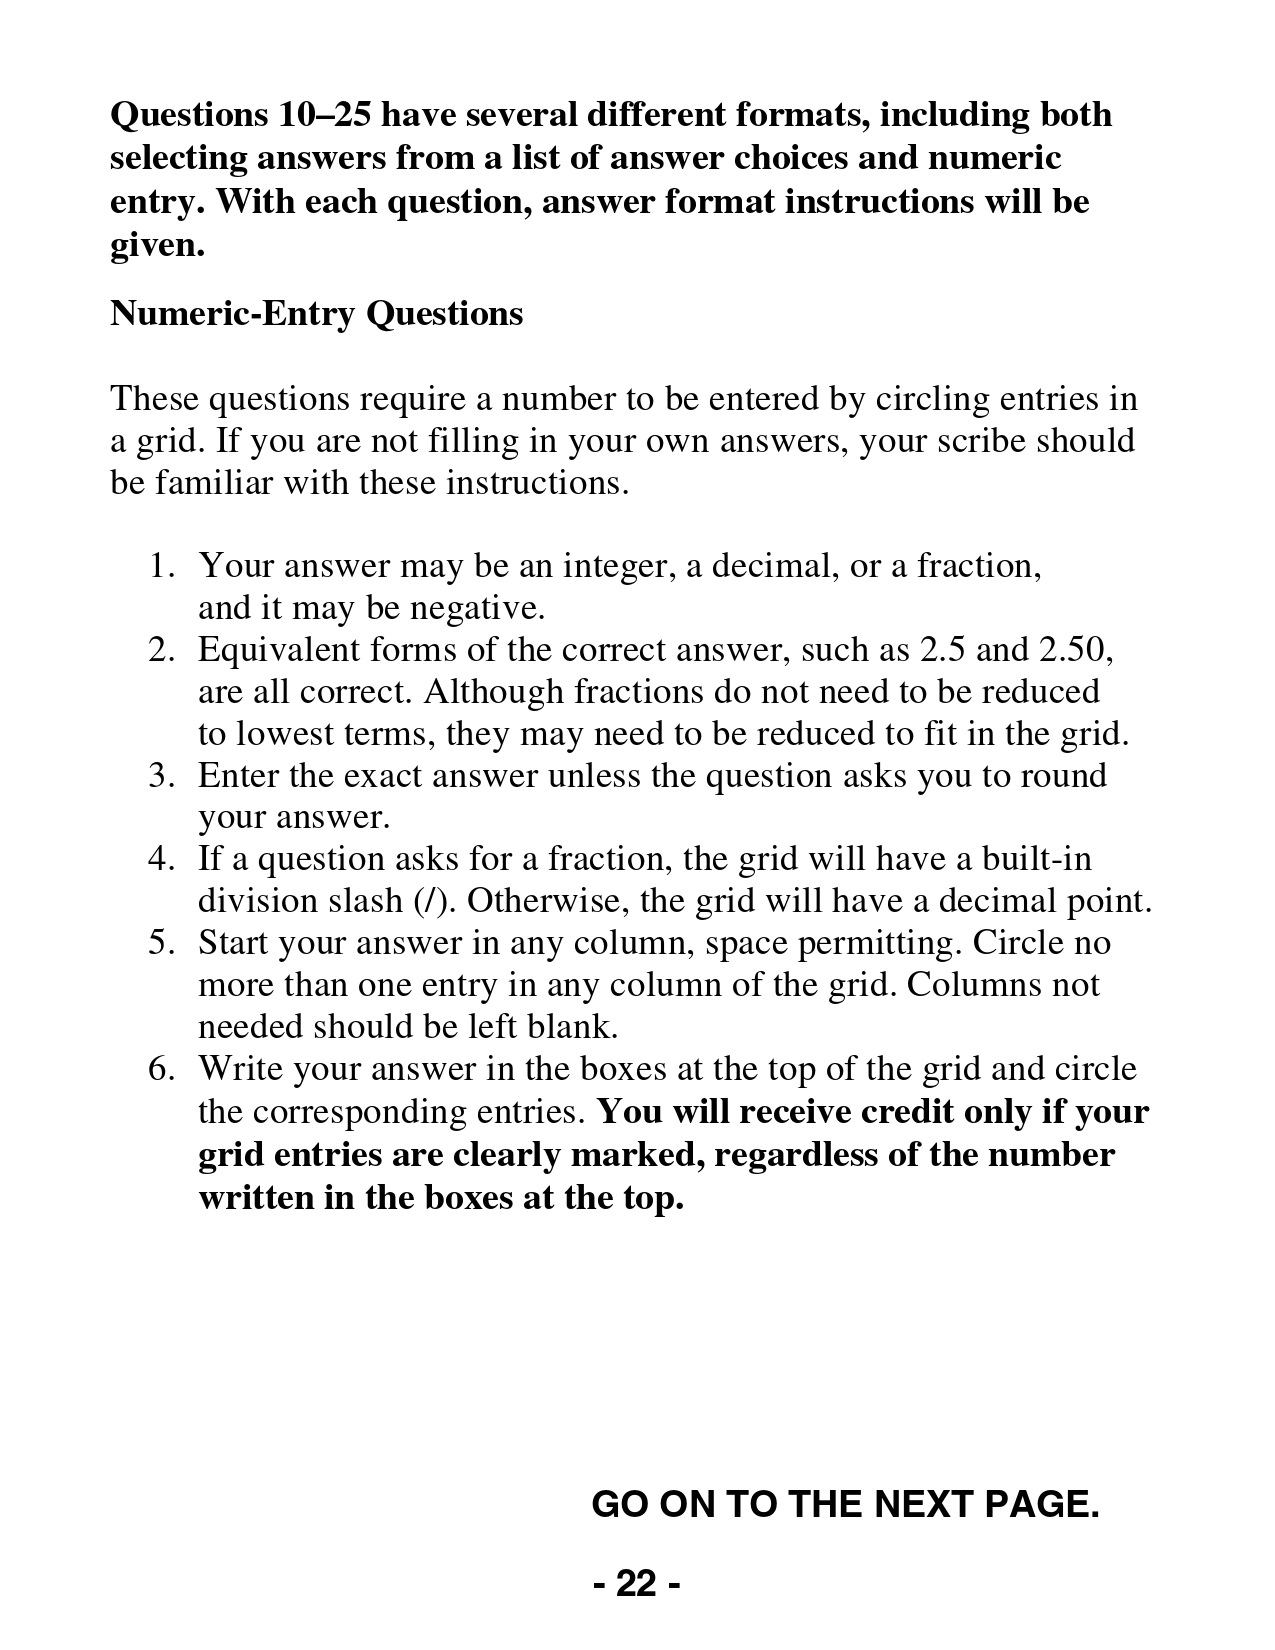Number: (588, 1550, 678, 1607), (129, 524, 179, 609), (135, 829, 186, 893), (141, 907, 179, 984), (135, 1049, 189, 1102), (138, 627, 175, 680), (141, 749, 169, 806)
Text: (90, 58, 1141, 267), (200, 1049, 1157, 1221), (70, 370, 1173, 510), (189, 919, 1121, 1041), (189, 633, 1144, 751), (189, 530, 1083, 625), (196, 759, 1116, 836), (196, 842, 1164, 912), (572, 1469, 1128, 1529), (86, 283, 579, 350)
